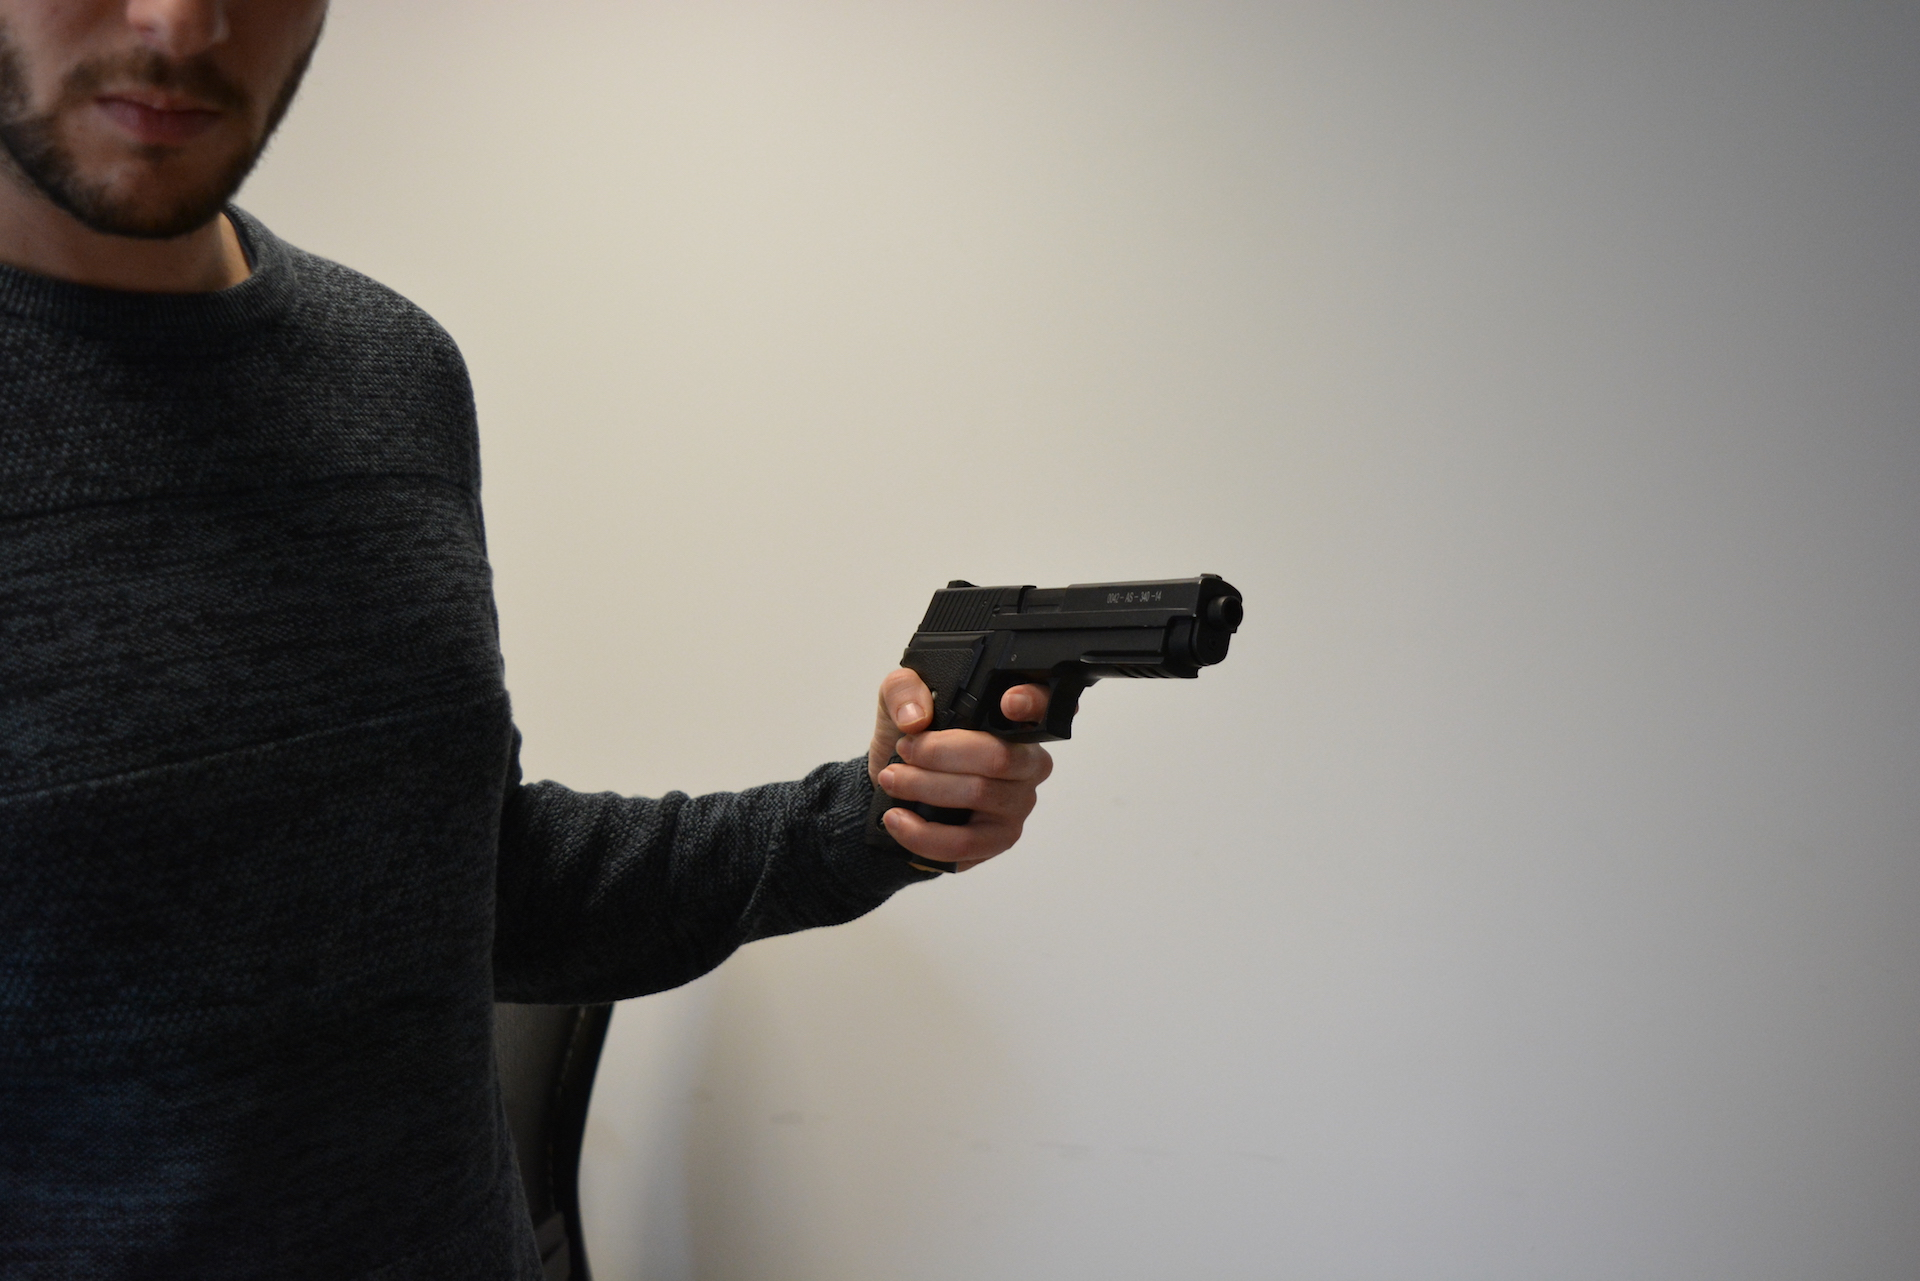pistol: (856, 570, 1247, 876)
